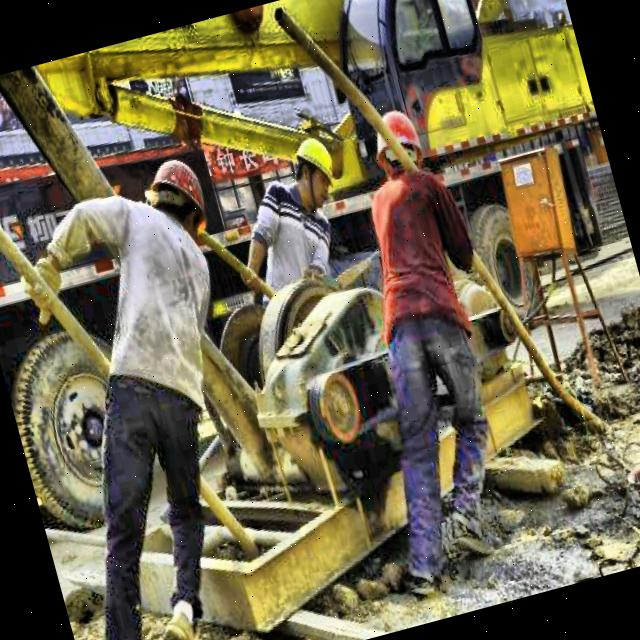helmet: (134, 150, 215, 250), (282, 123, 348, 216), (372, 104, 428, 182)
